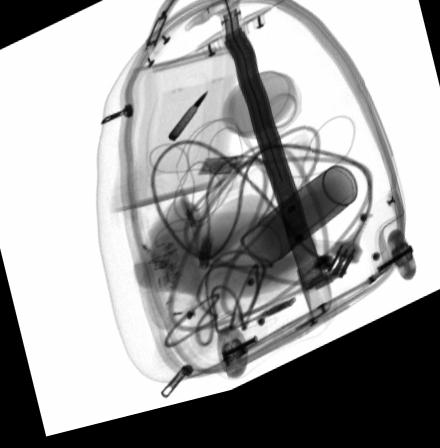Bullet: (166, 100, 209, 150)
